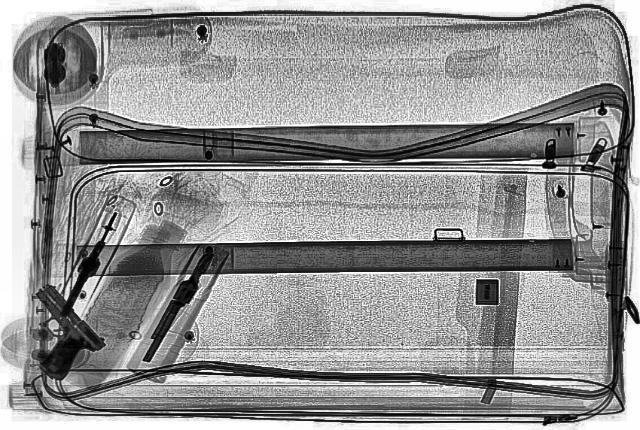Gun: (132, 250, 222, 366), (9, 283, 111, 377), (49, 210, 123, 320)
